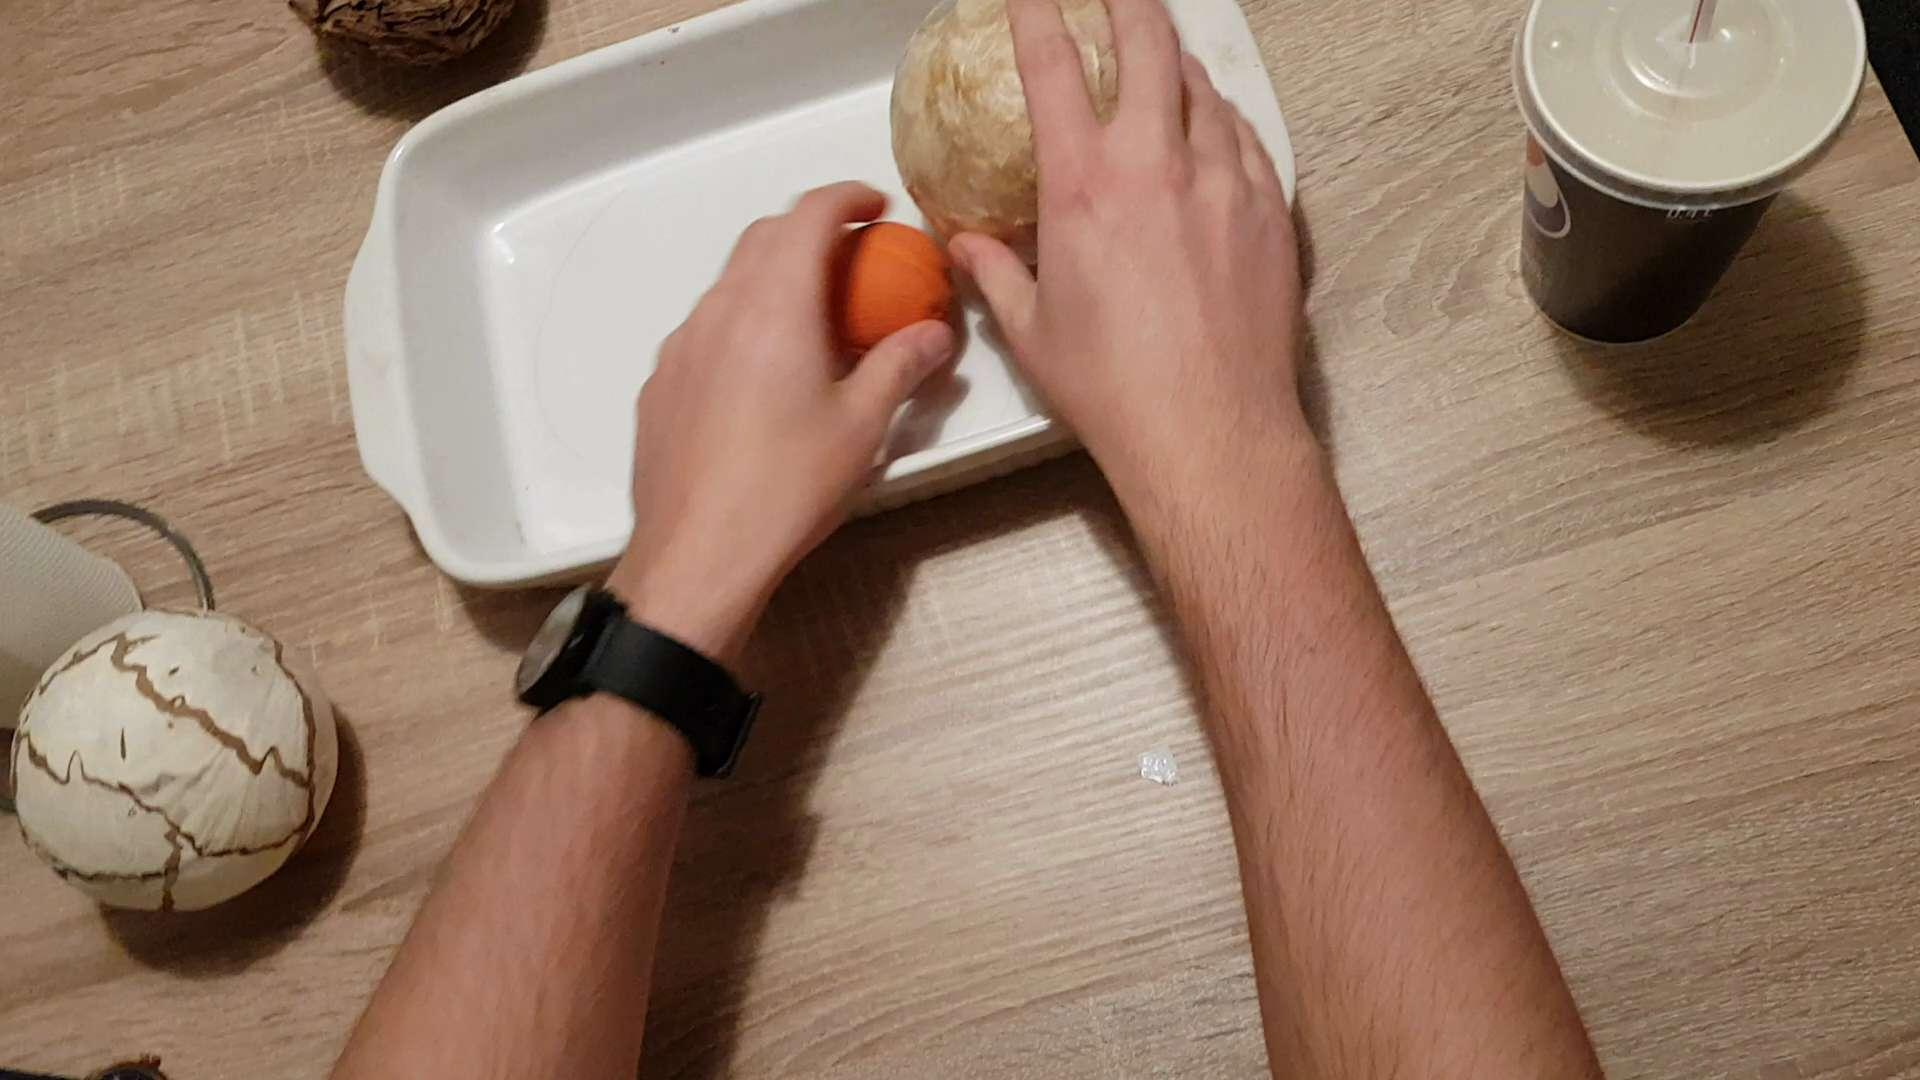sphere: (5, 589, 340, 934)
